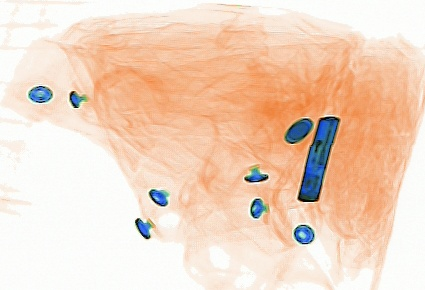lighter: (294, 115, 339, 201)
